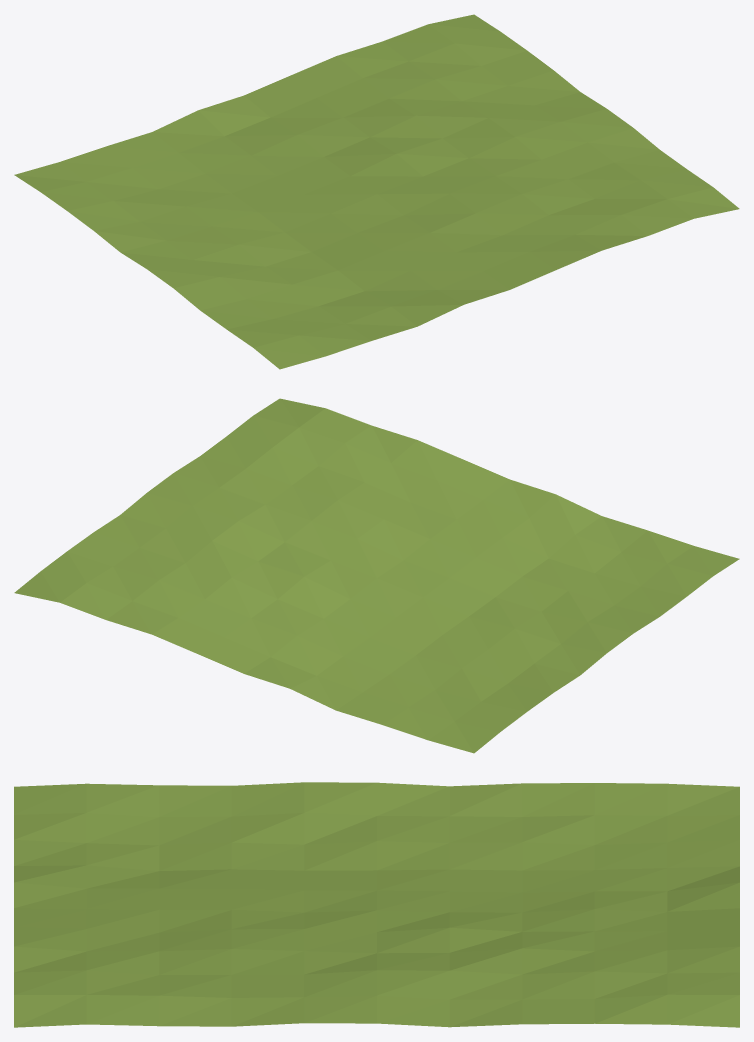
Rendered from terrain-plane_04-1.fbx.
The picture shows the model from 3 angles, top to bottom: view 1: azimuth 30°, elevation 25°; view 2: azimuth 150°, elevation 25°; view 3: azimuth 270°, elevation 25°; orthographic projection. The views are drawn at different scales.
Parts seen in each view (by area): view 1: terrain-plane_04-1; view 2: terrain-plane_04-1; view 3: terrain-plane_04-1.
Boxes of the visible parts, x1=… form: terrain-plane_04-1: x1=14, y1=14, x2=739, y2=369; terrain-plane_04-1: x1=14, y1=398, x2=739, y2=753; terrain-plane_04-1: x1=14, y1=782, x2=739, y2=1027.
Bounding box in the file's own units: 1999 × 213 × 2000.
